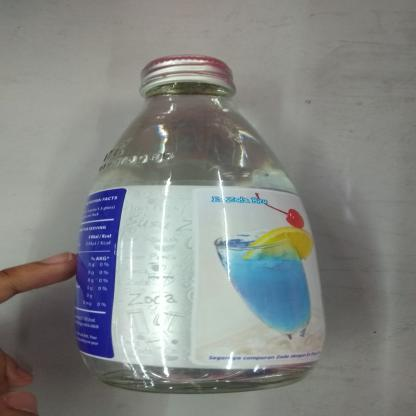bottle: (66, 50, 334, 395)
